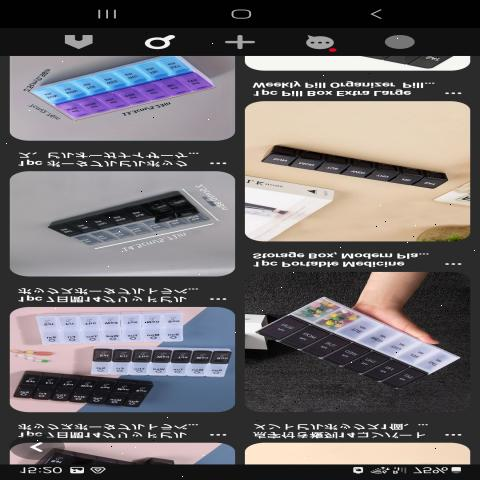PillBox: (251, 298, 455, 400), (31, 182, 238, 258), (247, 132, 455, 206), (93, 343, 238, 382), (18, 370, 154, 410)
